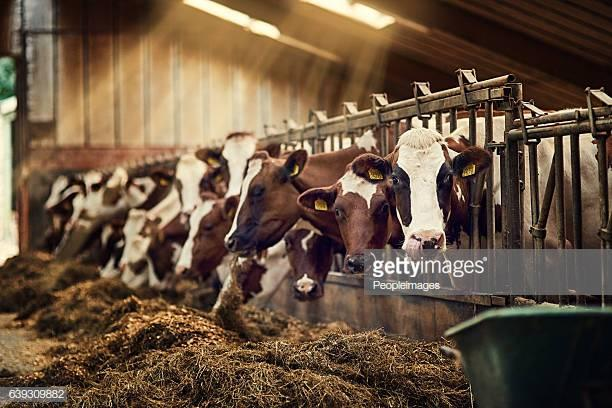cow: (35, 131, 540, 295)
